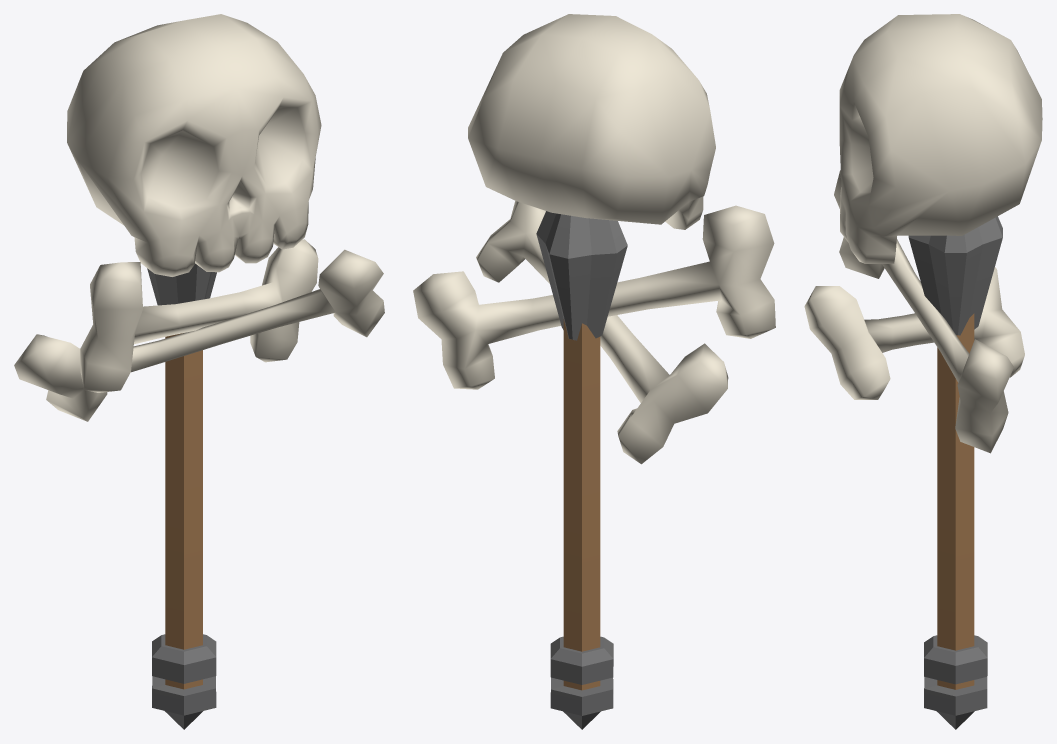
Rendered from Scaffold_Signpost.fbx.
The picture shows the model from 3 angles, left to right: view 1: azimuth 30°, elevation 25°; view 2: azimuth 150°, elevation 25°; view 3: azimuth 270°, elevation 25°; orthographic projection. The views are drawn at different scales.
Visible parts, largest first — view 1: Scaffold_Signpost; view 2: Scaffold_Signpost; view 3: Scaffold_Signpost.
Part boxes in pixels (x1,y1,x2,y2): Scaffold_Signpost: [14, 14, 384, 729]; Scaffold_Signpost: [413, 14, 775, 729]; Scaffold_Signpost: [804, 14, 1042, 729].
Size of the model in its own units: 54.57 by 118 by 36.17.
